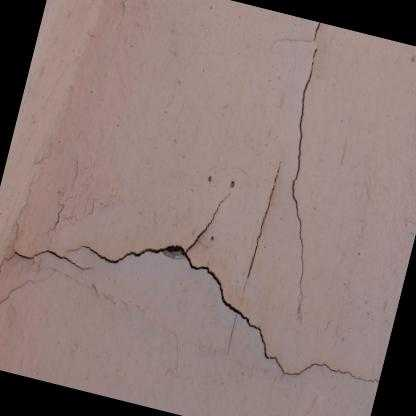crack: (0, 167, 380, 389), (289, 41, 320, 316), (238, 160, 283, 297), (42, 193, 66, 232), (310, 20, 322, 45)
